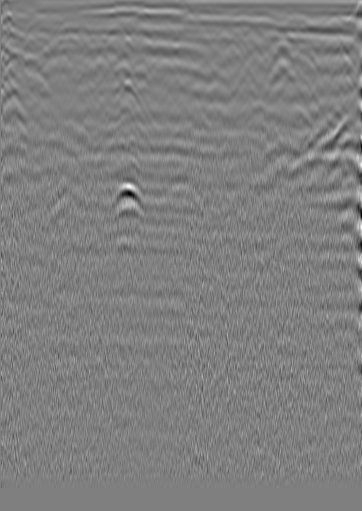가스: (104, 178, 145, 212)
상수: (21, 20, 41, 40)
오수: (318, 12, 338, 32)
우수: (164, 19, 184, 39)
